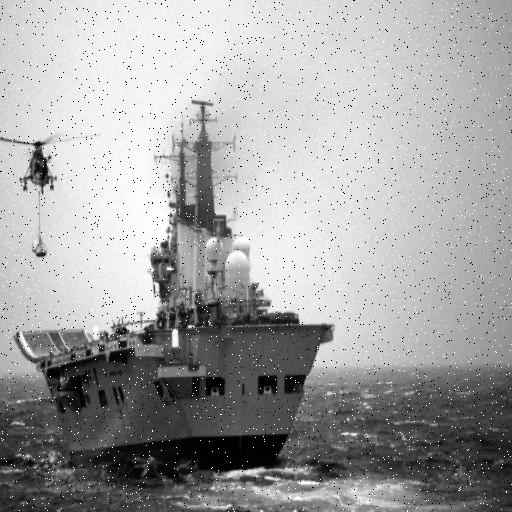Portanaves: (15, 86, 335, 475)
